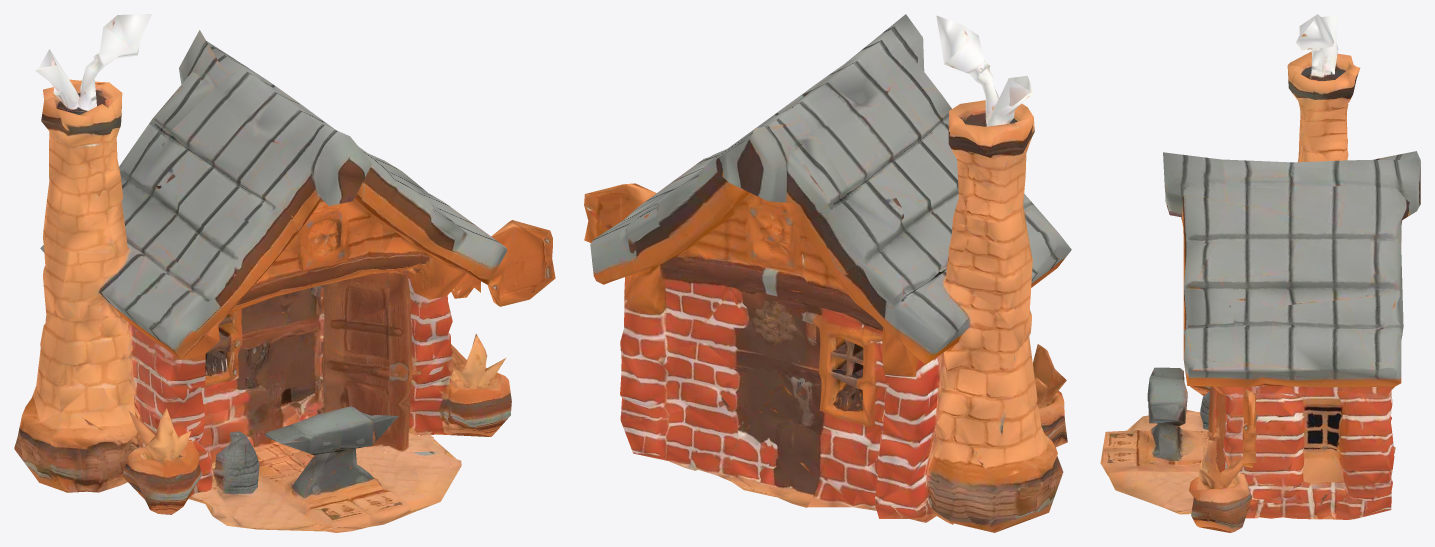
The model's file is workshop.glb.
3 renders of one model, left to right at view 1: azimuth 30°, elevation 25°; view 2: azimuth 150°, elevation 25°; view 3: azimuth 270°, elevation 25°, orthographic. The views are drawn at different scales.
Bounding box in the file's own units: 1.89 × 1.69 × 1.26.
Materials: 1 (1 with a texture image).
